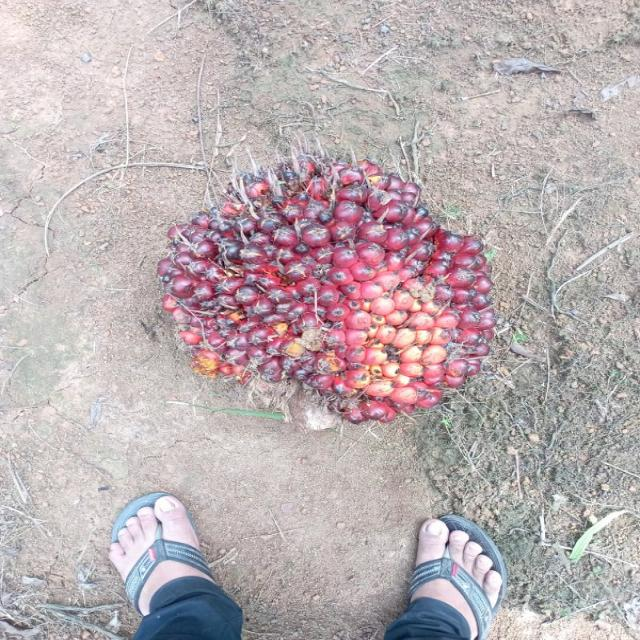fraksi 1: (141, 114, 540, 480)
